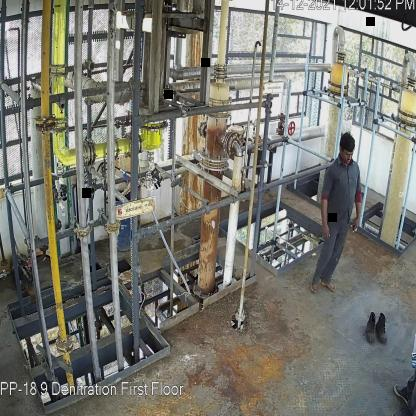no_shoes: (320, 275, 336, 293)
shoes: (374, 310, 390, 350), (362, 311, 376, 343)
